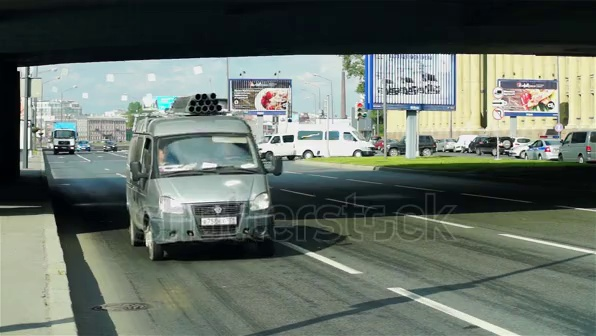licenseplate: (200, 214, 235, 231)
